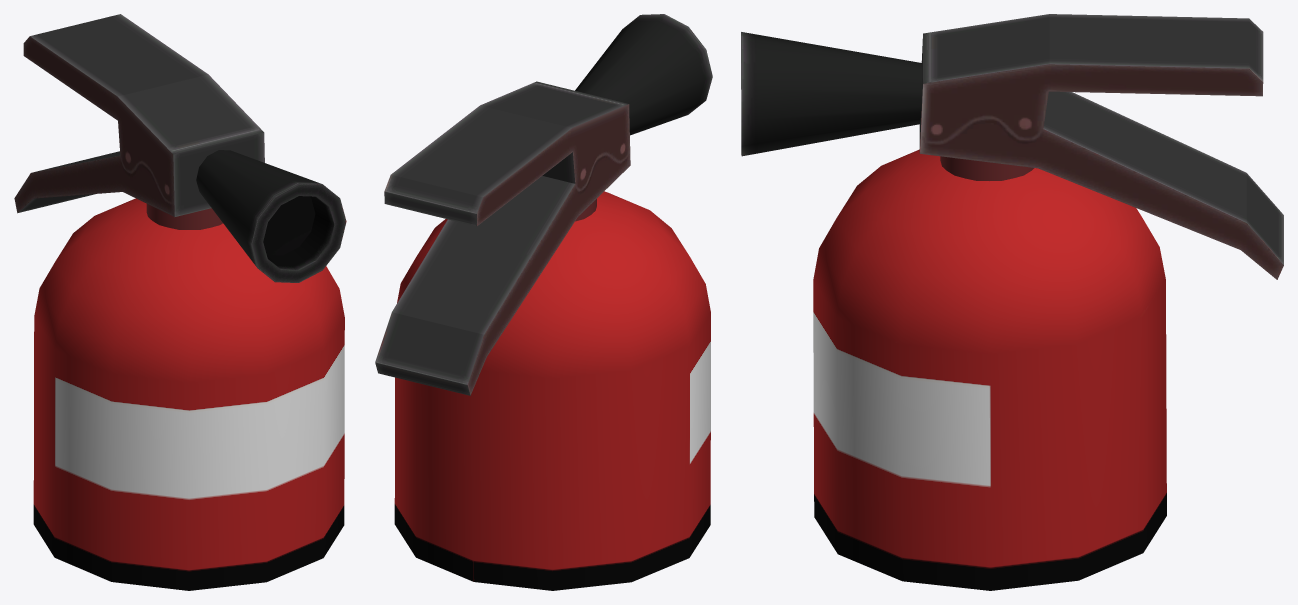
Rendered from FireExtinguisher.glb.
3 views of the same model, side by side, from view 1: azimuth 30°, elevation 25°; view 2: azimuth 150°, elevation 25°; view 3: azimuth 270°, elevation 25° (orthographic). The views are drawn at different scales.
Visible parts, largest first — view 1: Mesh; view 2: Mesh; view 3: Mesh.
Part boxes in pixels (x1,y1,x2,y2): Mesh: (14,14,346,590); Mesh: (375,14,712,590); Mesh: (741,14,1283,590).
Bounding box in the file's own units: 0.5801 × 0.8704 × 0.8928.
Materials: 1 (1 with a texture image).
